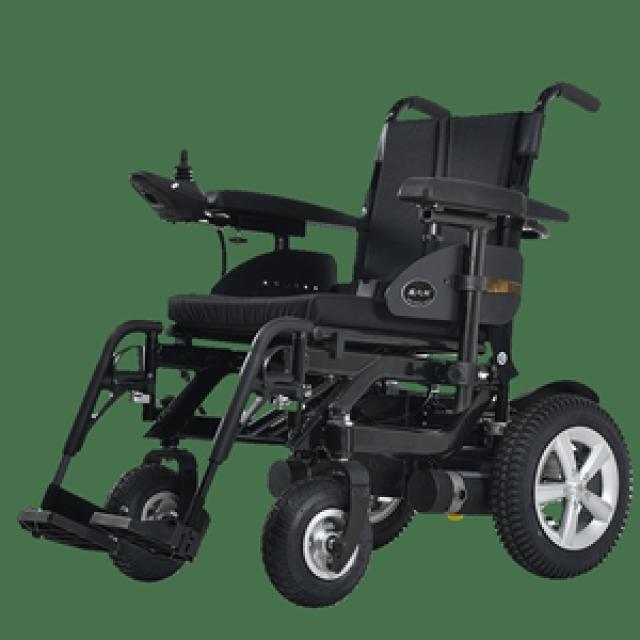wheelchairs: (10, 66, 640, 611)
